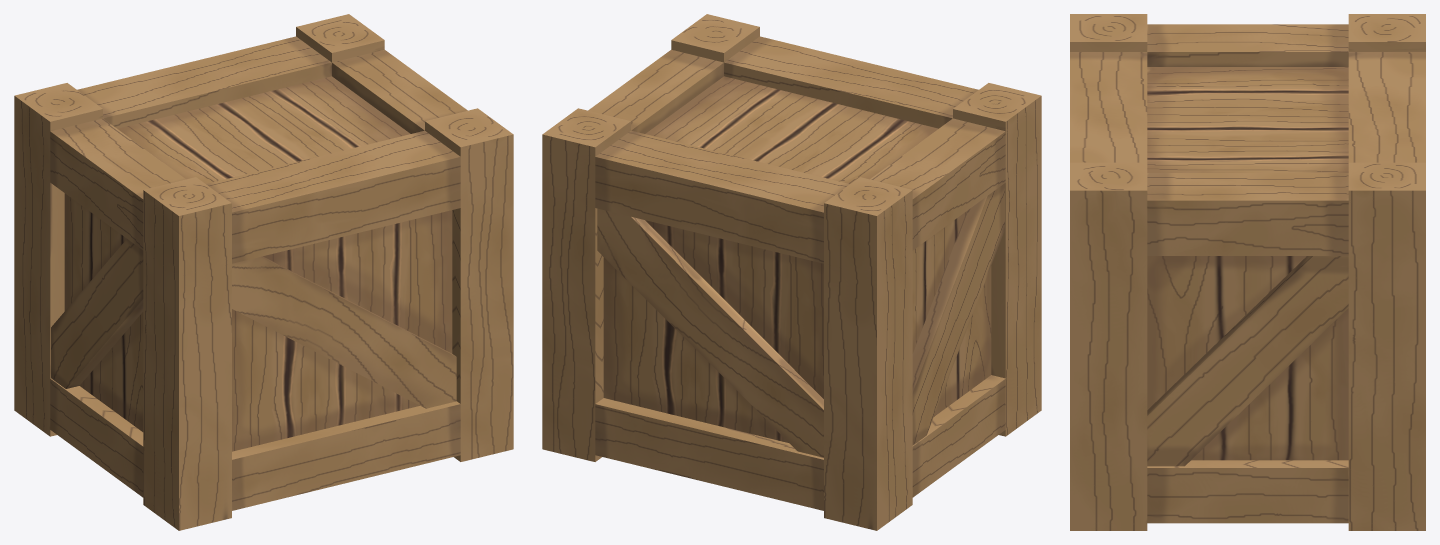
File: caja1.glb
3 renders of one model, left to right at view 1: azimuth 30°, elevation 25°; view 2: azimuth 150°, elevation 25°; view 3: azimuth 270°, elevation 25°, orthographic. The views are drawn at different scales.
Parts seen in each view (by area): view 1: Cube; view 2: Cube; view 3: Cube.
Part boxes in pixels (box(x1,y1,x2,y2)): Cube: box(14, 14, 513, 530); Cube: box(542, 14, 1041, 530); Cube: box(1070, 14, 1425, 530).
Bounding box in the file's own units: 2.35 × 2.11 × 2.
1 material, 1 textured.
